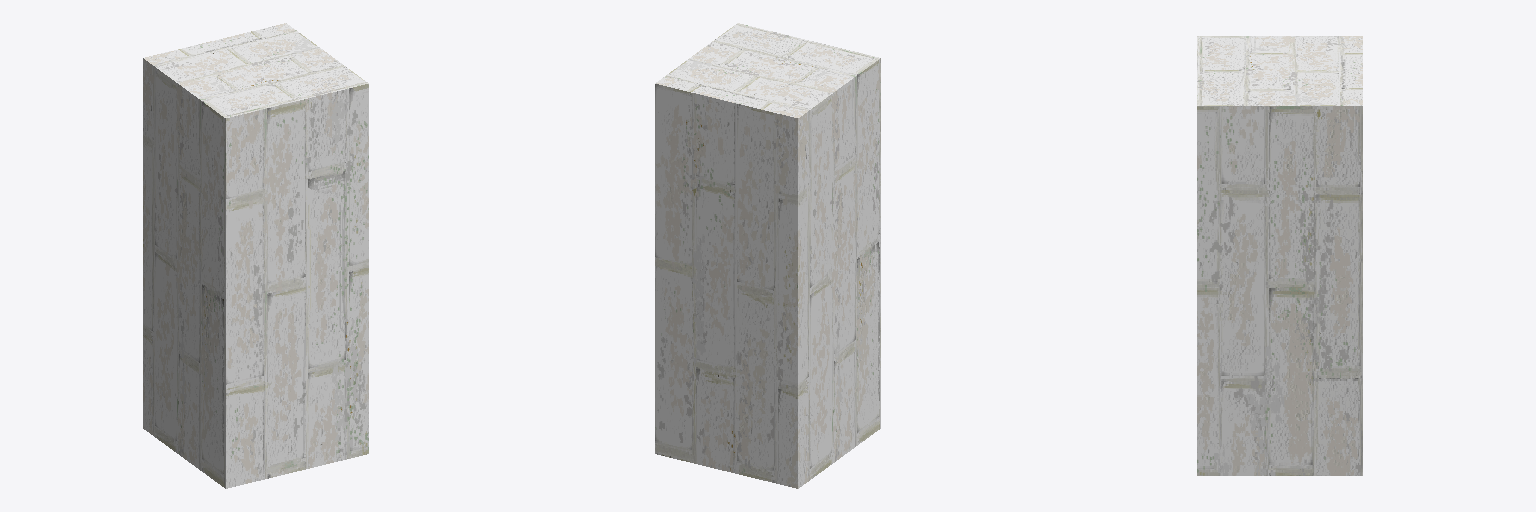
3 renders of one model, left to right at view 1: azimuth 30°, elevation 25°; view 2: azimuth 150°, elevation 25°; view 3: azimuth 270°, elevation 25°, orthographic.
Parts seen in each view (by area): view 1: building; view 2: building; view 3: building.
Part boxes in pixels (bbox=[...]): building: bbox=[143, 23, 368, 488]; building: bbox=[655, 23, 880, 488]; building: bbox=[1197, 36, 1362, 475].
Bounding box in the file's own units: 7.53 × 18.6 × 7.53.
Materials: 1 (1 with a texture image).